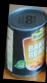beans: (5, 7, 47, 79)
